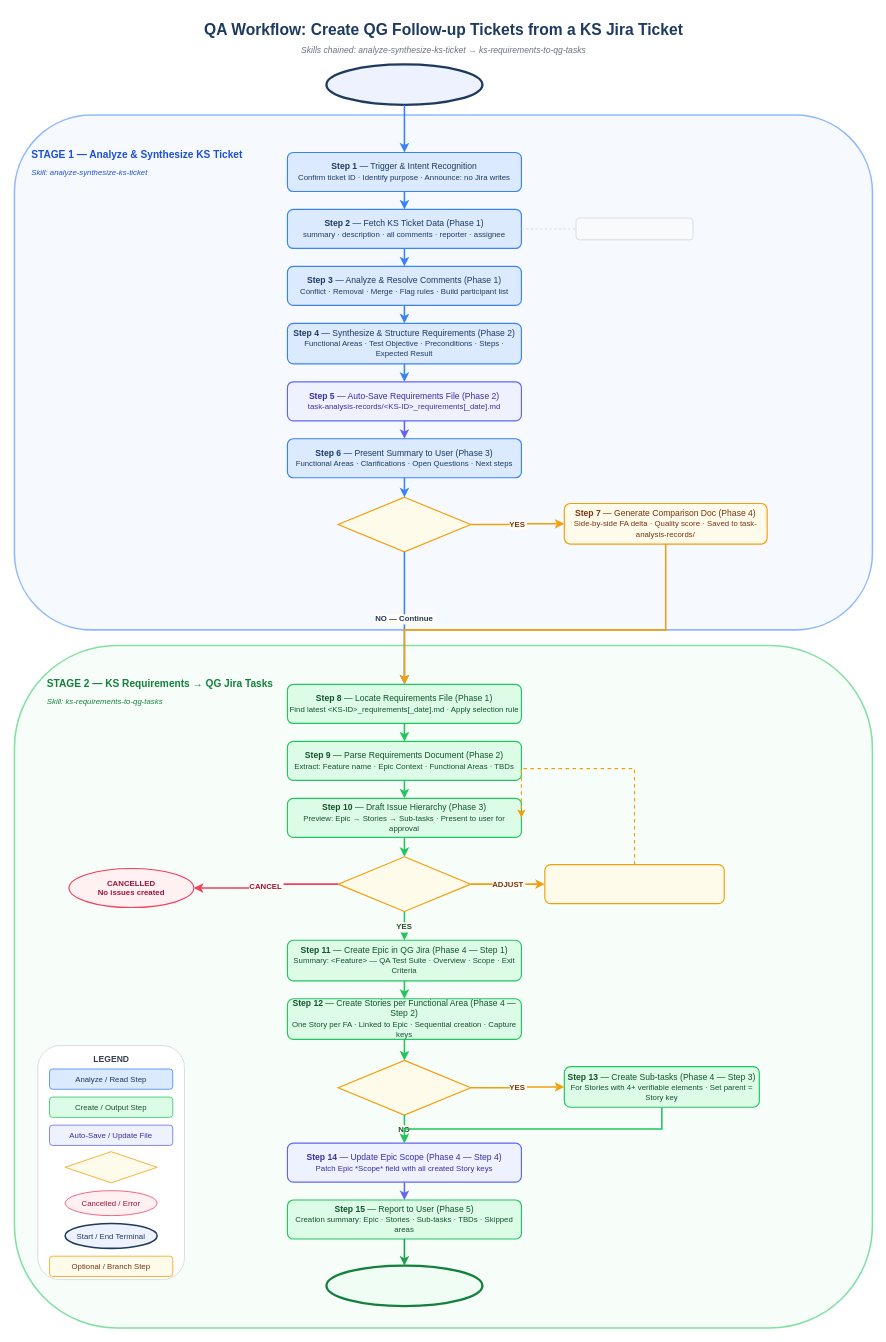
The diagram is 886 pixels wide and 1342 high, and some of its shapes have lost their labels. The centre of each missing label's shape, as x and y in pixels:
Adjust — Incorporate user changes Re-present revised hierarchy: point 634,884
API: jira_get_issue: point 634,228
BA creates KS ticket New Jira ticket from BA: point 404,84
Decision / Human Gate: point 110,1167
Previous run exists?: point 404,524
QG Tasks Created Epic + Stories + Sub-tasks in Jira: point 404,1285
Sub-tasks needed?: point 404,1087
User Confirms?: point 404,884
